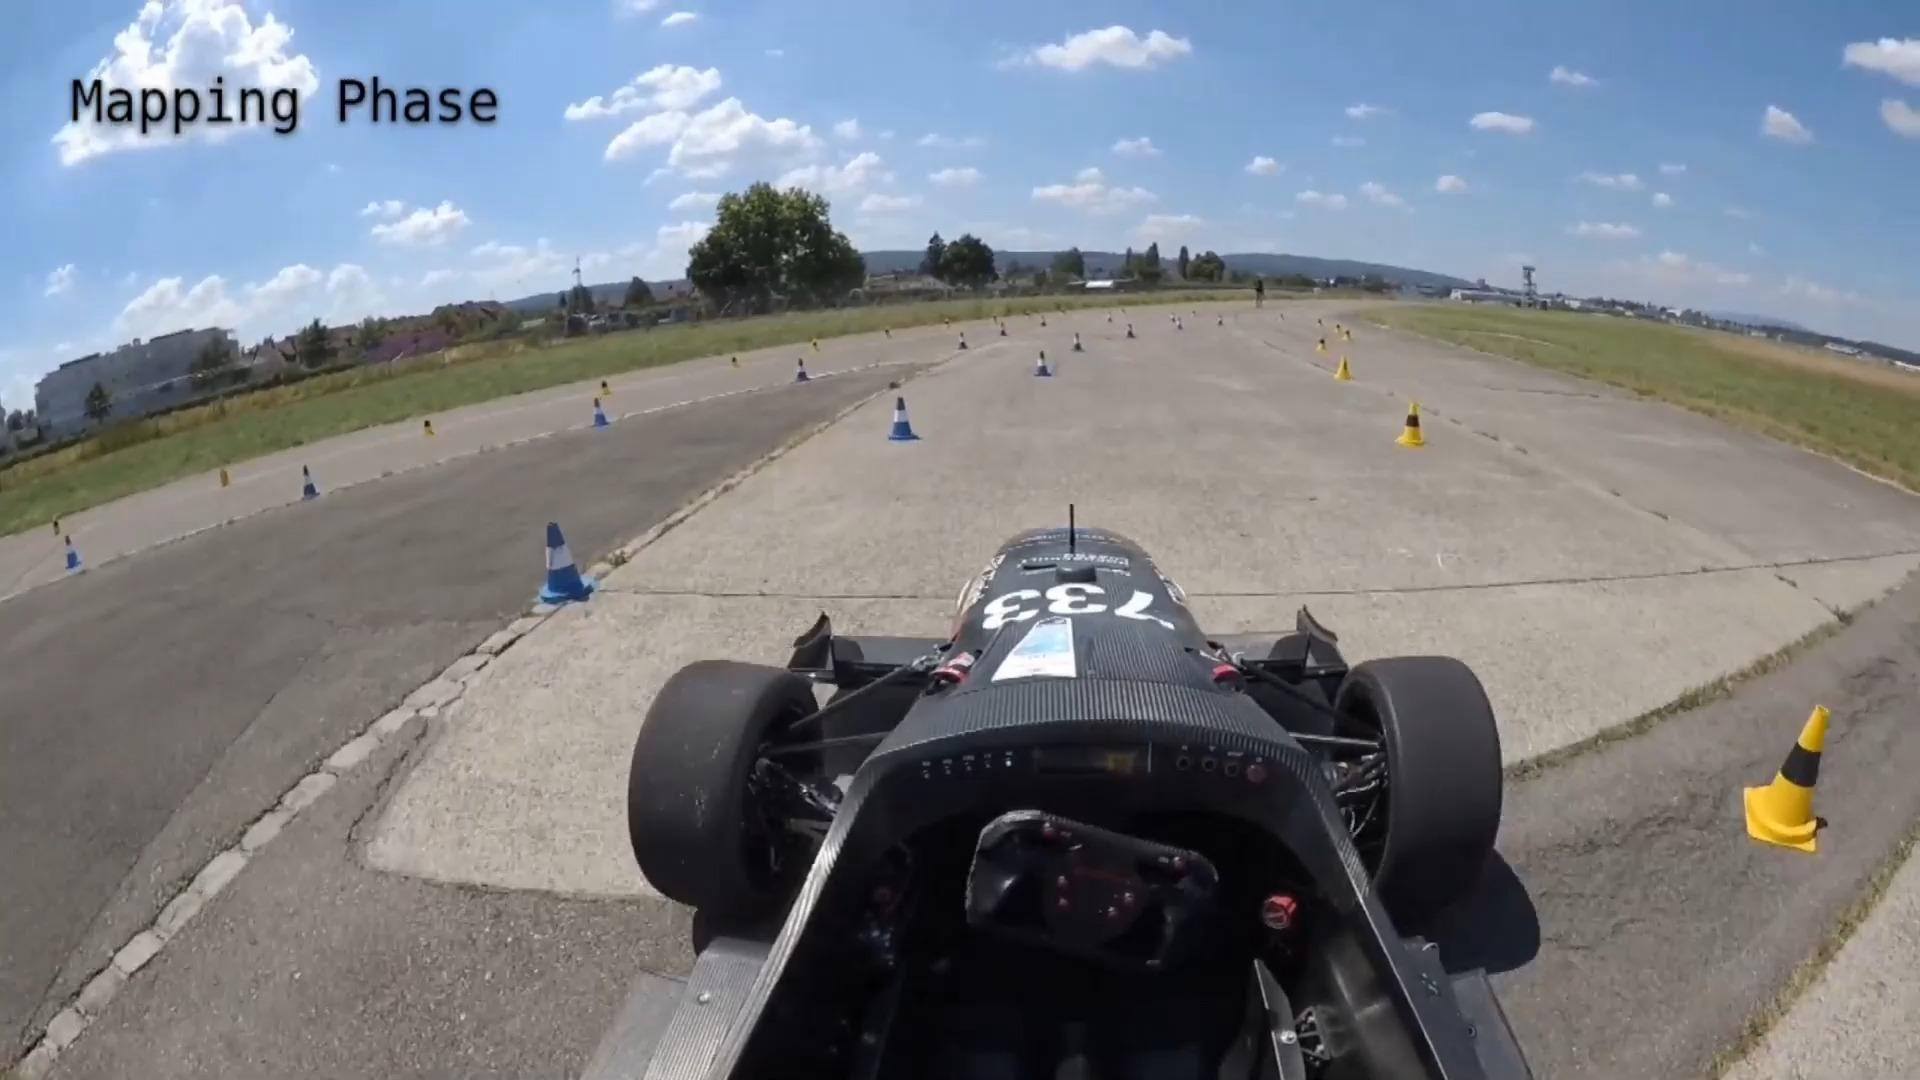blue_cone: (531, 518, 596, 607), (887, 398, 920, 442), (295, 463, 323, 502), (61, 535, 84, 571), (1031, 348, 1052, 377), (591, 398, 609, 427), (793, 357, 810, 382)
yellow_cone: (1742, 695, 1836, 858), (1395, 401, 1427, 448), (1333, 355, 1354, 381), (1316, 335, 1328, 352)
